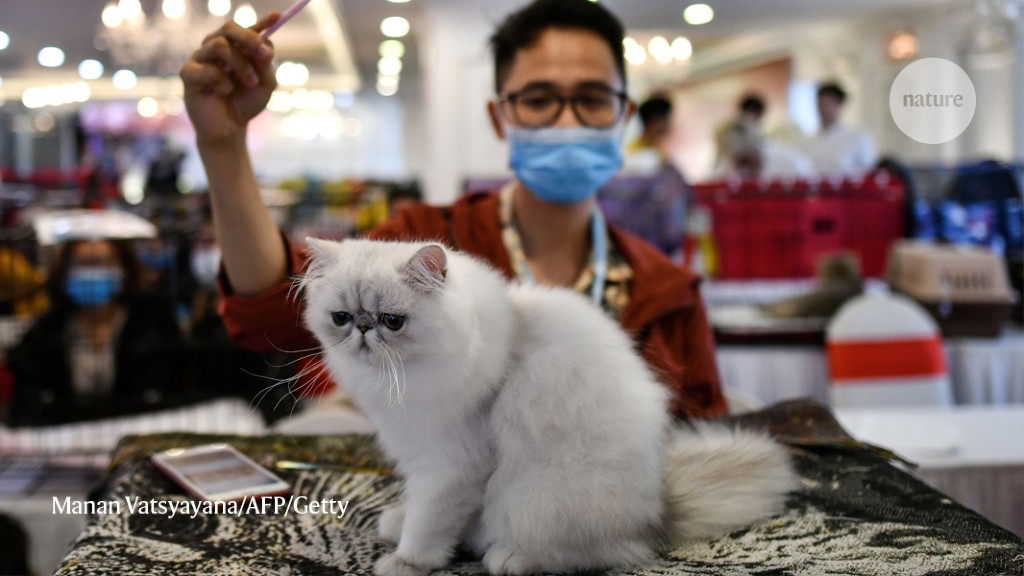cat: (268, 216, 531, 414)
